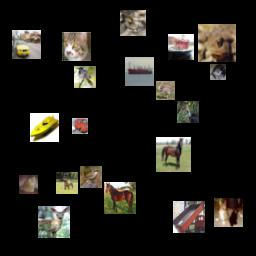automobile: (12, 30, 41, 59)
bird: (74, 66, 96, 88), (177, 101, 199, 123), (80, 166, 102, 188), (156, 81, 175, 100)
cat: (214, 198, 243, 227), (62, 32, 91, 61), (19, 175, 38, 194), (210, 64, 226, 80)
deer: (38, 206, 70, 238), (120, 10, 146, 36)
dog: (56, 172, 78, 194)
frog: (198, 24, 236, 62)
ship: (30, 113, 59, 142), (125, 57, 154, 86), (168, 34, 194, 60)
truck: (173, 201, 205, 233), (72, 118, 88, 134)
